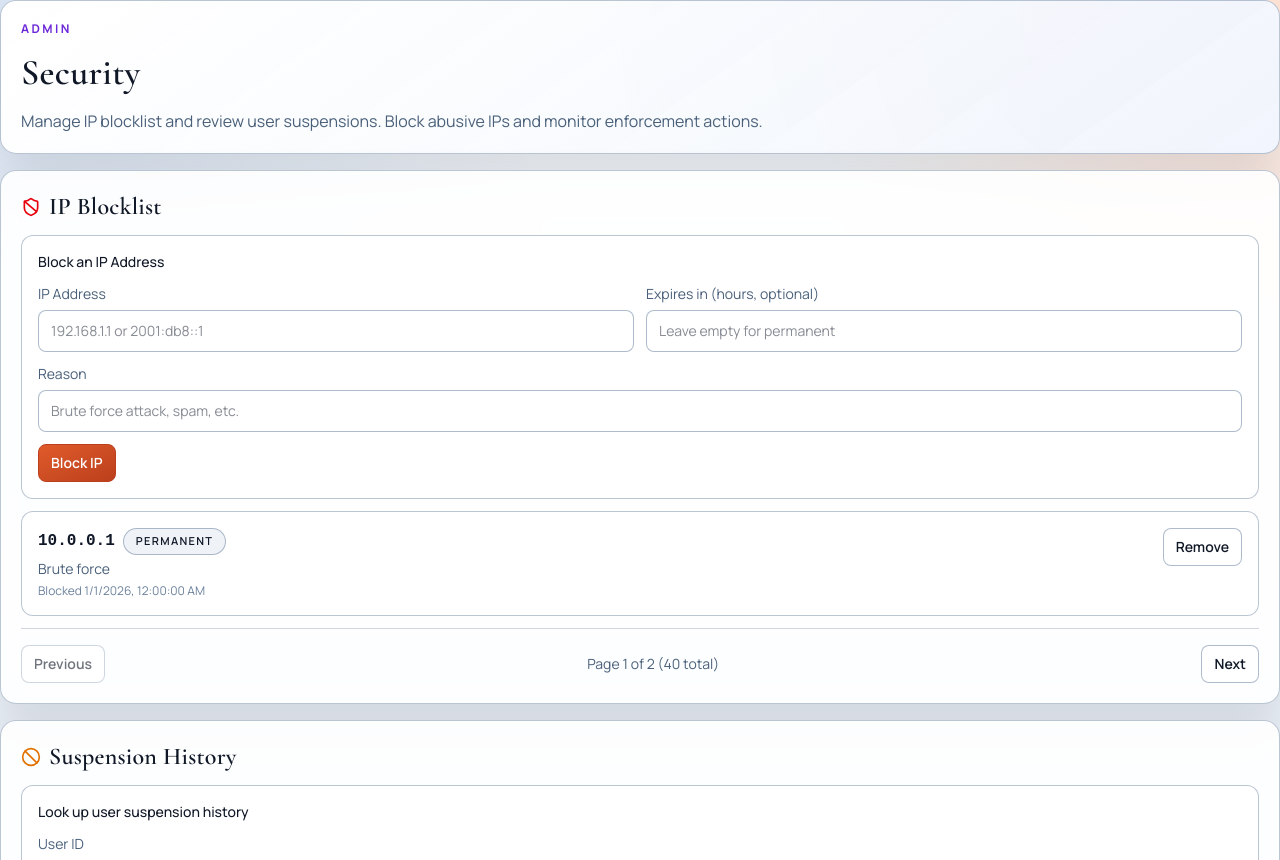
AdminSecurityPage › goes back to previous page on Previous click
The width and height of the screenshot is (1280, 860).
expect the text "10.0.0.1" is shown: met, box 38,529 -> 115,553
Click the button "Next".
click(1230, 664)  # box 1202,644 -> 1259,682
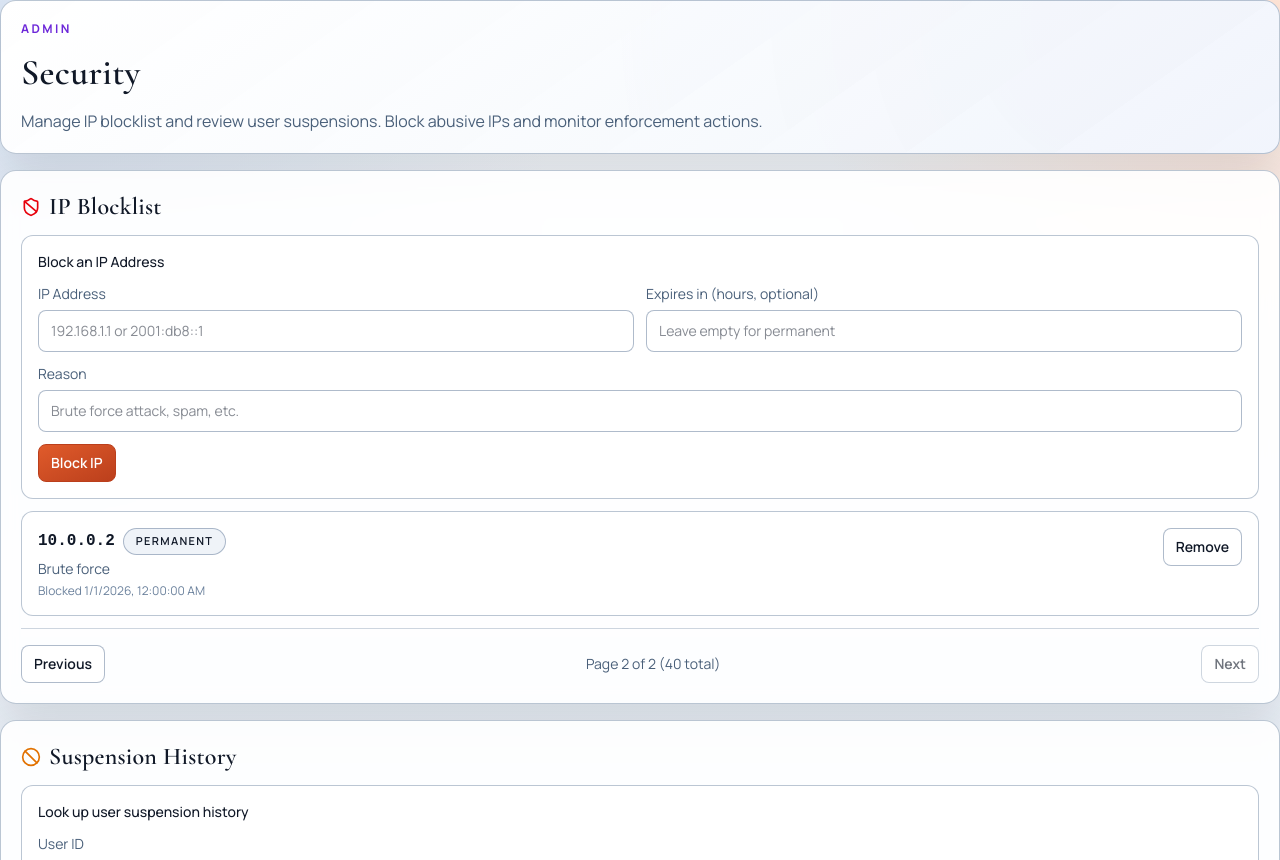
expect the text "10.0.0.2" is shown: met, box 38,529 -> 115,553
Click the button "Previous".
click(63, 664)  # box 21,644 -> 105,682
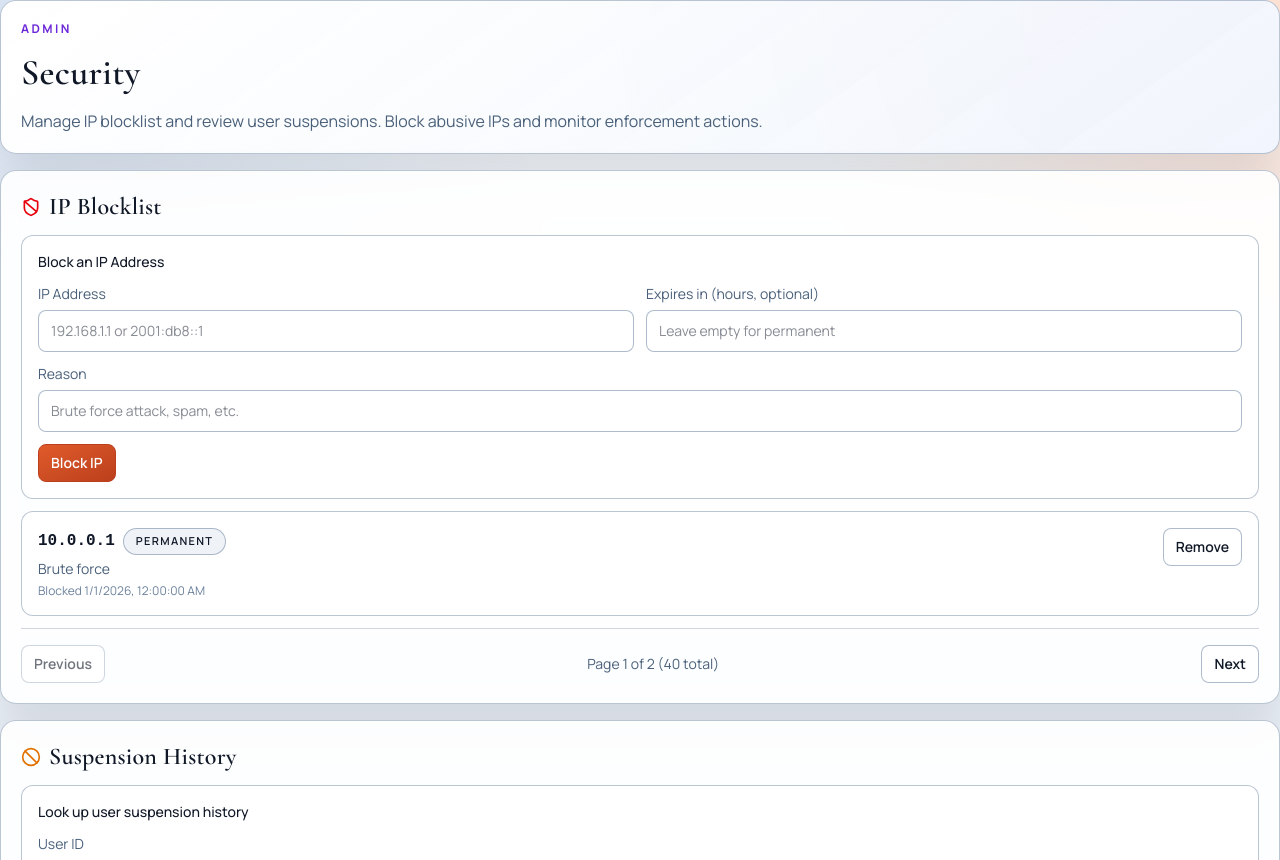
expect the text "10.0.0.1" is shown: met, box 38,529 -> 115,553
